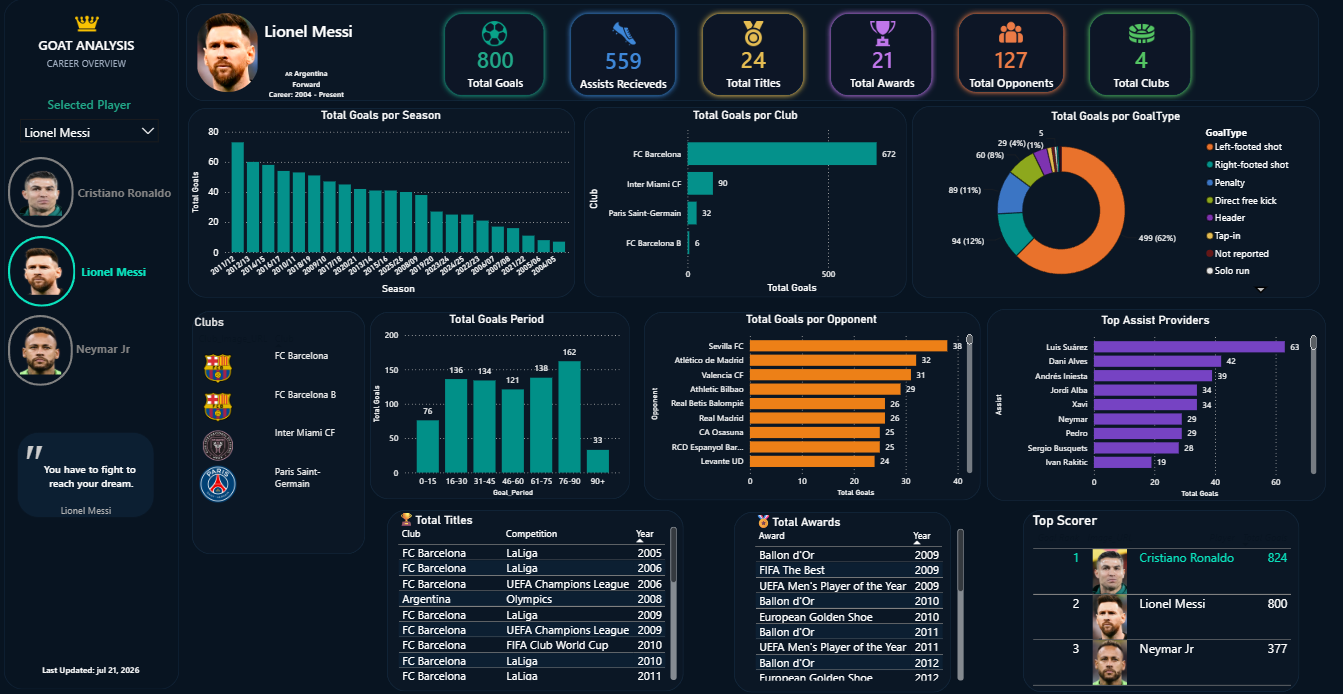

The page's visual inventory and layout, read from the dashboard file:
{"tool":"powerbi","page":{"name":"Goat Analysis","canvas":[1923,1000],"ordinal":1},"visuals":[{"type":"shape","box":[267.1,7.1,1618.6,138.6],"z":0},{"type":"actionButton","box":[104.2,253.4,150,46.2],"z":0,"group":"g26"},{"type":"actionButton","box":[12.5,338.8,96.3,101],"z":0,"group":"g27"},{"type":"actionButton","box":[12.5,451.2,92.6,101.2],"z":0,"group":"g28"},{"type":"shape","box":[7.5,0,250,986.2],"z":1000},{"type":"actionButton","box":[12.3,226.2,93.9,101],"z":1000,"group":"g26"},{"type":"actionButton","box":[110,363.8,107.5,50],"z":1000,"group":"g27"},{"type":"actionButton","box":[104.4,472.1,88.8,53.8],"z":1000,"group":"g28"},{"type":"textbox","title":"GOAT ANALYSIS","box":[0,52.5,250,53],"z":2000,"group":"g13"},{"type":"slicer","title":"Selected Player","fields":{"Values":["Players.Player"]},"box":[20,138.8,217.5,72.5],"z":2000},{"type":"card","fields":{"Values":["Medidas DAX.Last Updated"]},"box":[28.8,947.5,205,27.5],"z":3000},{"type":"image","box":[282,20,90,113],"z":4000},{"type":"card","fields":{"Values":["Medidas DAX.Player Quote"]},"box":[42.2,649,181,65],"z":4000,"group":"g14"},{"type":"group","id":"g1","title":"Grupo 3","box":[616.5,12.5,184.2,133.3],"z":5000},{"type":"group","id":"g2","title":"Grupo 4","box":[800.7,12.5,184,133.3],"z":6000},{"type":"group","id":"g3","title":"Grupo 1","box":[616.5,12.5,184,133],"z":7000,"group":"g1"},{"type":"group","id":"g4","title":"Grupo 5","box":[985.7,12.5,184.2,133.3],"z":7000},{"type":"shape","box":[628.3,12.5,157.7,133],"z":8000,"group":"g3"},{"type":"group","id":"g5","title":"Grupo 2","box":[800.7,12.5,184.7,133],"z":8000,"group":"g2"},{"type":"group","id":"g6","title":"Grupo 6","box":[1169.8,12.5,184.2,133.3],"z":8000},{"type":"group","id":"g7","title":"Grupo 2","box":[985.7,12.5,184,133],"z":9000,"group":"g4"},{"type":"group","id":"g8","title":"Grupo 7","box":[1354,13.2,184.2,133.3],"z":9000},{"type":"cardVisual","title":"Total de Gols","fields":{"Data":["Medidas DAX.Total Goals"]},"box":[616.5,49.5,184,94],"z":9000,"group":"g3"},{"type":"shape","box":[809.8,12.5,165.5,133],"z":10000,"group":"g5"},{"type":"shape","box":[997,12.5,160.1,133],"z":10000,"group":"g7"},{"type":"group","id":"g9","title":"Grupo 2","box":[1169.8,12.5,184,133],"z":10000,"group":"g6"},{"type":"shape","box":[1180.5,12.5,160.3,133],"z":10000,"group":"g9"},{"type":"shape","box":[1363,13.2,166,128.2],"z":10000,"group":"g11"},{"type":"group","id":"g10","title":"Grupo 8","box":[1539.8,13.2,184.2,133.3],"z":10000},{"type":"shape","box":[1550.5,13.2,160.3,133],"z":10000,"group":"g12"},{"type":"group","id":"g11","title":"Grupo 2","box":[1354,13.2,184,133],"z":11000,"group":"g8"},{"type":"textbox","box":[372.5,23.8,138.8,63.8],"z":11000},{"type":"cardVisual","title":"Total de Gols","fields":{"Data":["Medidas DAX.Total Opponents"]},"box":[1354,47.9,184,98.3],"z":11000,"group":"g11"},{"type":"cardVisual","title":"Total de Gols","fields":{"Data":["Medidas DAX.Total Titles"]},"box":[985.7,49.5,184,94],"z":11000,"group":"g7"},{"type":"cardVisual","title":"Total de Gols","fields":{"Data":["Medidas DAX.Total Awards"]},"box":[1169.8,49.5,184,94],"z":11000,"group":"g9"},{"type":"cardVisual","title":"Total de Gols","fields":{"Data":["Medidas DAX.Total Clubs"]},"box":[1539.8,50.2,184,94],"z":11000,"group":"g12"},{"type":"cardVisual","title":"Total de Gols","fields":{"Data":["Medidas DAX.Total Assists"]},"box":[800.7,51.5,184.7,94],"z":11000,"group":"g5"},{"type":"shape","box":[26.2,619,196.2,122.5],"z":11500,"group":"g25"},{"type":"group","id":"g12","title":"Grupo 2","box":[1539.8,13.2,184,133],"z":12000,"group":"g10"},{"type":"group","id":"g13","title":"Grupo 10","box":[0,17.5,250,87.5],"z":12000},{"type":"group","id":"g14","title":"Grupo 9","box":[28,619.7,195.2,122.9],"z":12000,"group":"g25"},{"type":"image","box":[105,17.5,40,36],"z":13000,"group":"g13"},{"type":"image","box":[682,30.5,50.4,36],"z":13000,"group":"g1"},{"type":"group","id":"g15","title":"Grupo 11","box":[269,155,554,271],"z":13000},{"type":"image","box":[873.4,30.5,40.4,36],"z":13001,"group":"g2"},{"type":"textbox","title":"\"","box":[28,619.7,194.3,122.9],"z":13001,"group":"g14"},{"type":"image","box":[1052.5,30.5,50.4,36],"z":13002,"group":"g4"},{"type":"image","box":[1238.7,30.5,47.5,36],"z":13003,"group":"g6"},{"type":"image","box":[1426,30.5,40,34.7],"z":13004,"group":"g8"},{"type":"image","box":[1608.7,31.2,47.5,36],"z":13005,"group":"g10"},{"type":"shape","box":[835,154,461,272],"z":13500,"group":"g16"},{"type":"shape","box":[270,155,553,271],"z":13500,"group":"g15"},{"type":"group","id":"g16","title":"Grupo 12","box":[835,154,461,272],"z":14000},{"type":"columnChart","fields":{"Category":["Goals_Raw.Season"],"Y":["Medidas DAX.Total Goals"]},"box":[269,155,554,271],"z":14000,"group":"g15"},{"type":"barChart","fields":{"Category":["Goals_Raw.Club"],"Y":["Medidas DAX.Total Goals"]},"box":[835,155.4,461,269.1],"z":14000,"group":"g16"},{"type":"group","id":"g17","title":"Grupo 13","box":[1304.3,152.9,582.9,274.3],"z":15000},{"type":"shape","box":[1304.3,152.9,582.9,274.3],"z":15500,"group":"g17"},{"type":"donutChart","fields":{"Category":["Goals_Type.GoalType"],"Y":["Medidas DAX.Total Goals"]},"box":[1306.2,156.6,579.4,270.6],"z":16000,"group":"g17"},{"type":"group","id":"g18","title":"Grupo 14","box":[528.8,447.5,372.5,268.8],"z":16000},{"type":"shape","box":[274.4,446,247.3,347.3],"z":16500,"group":"g23"},{"type":"group","id":"g19","title":"Grupo 15","box":[921.2,447.5,481.2,268.8],"z":17000},{"type":"tableEx","title":"Clubs","fields":{"Values":["Clubs.Club_Image_URL","Goals_Raw.Club"]},"box":[273.6,451.8,248.2,342.7],"z":17000,"group":"g23"},{"type":"shape","box":[529.7,447.5,371.3,267.3],"z":17500,"group":"g18"},{"type":"shape","box":[921.2,447.5,480.9,269.1],"z":17503,"group":"g19"},{"type":"shape","box":[1412.2,451.4,483.8,266.2],"z":17503,"group":"g24"},{"type":"columnChart","title":"Total Goals Period","fields":{"Category":["Goals_Raw.Goal_Period"],"Y":["Medidas DAX.Total Goals"]},"box":[528.8,447.7,364.8,268.4],"z":18000,"group":"g18"},{"type":"group","id":"g20","title":"Grupo 16","box":[554.7,730,423.6,259.1],"z":18000},{"type":"clusteredBarChart","fields":{"Category":["Goals_Raw.Opponent"],"Y":["Medidas DAX.Total Goals"]},"box":[926.1,447.7,470,268.2],"z":18003,"group":"g19"},{"type":"clusteredBarChart","title":"Top Assist Providers","fields":{"Category":["Goals_Raw.Assist"],"Y":["Medidas DAX.Total Goals"]},"box":[1417.4,448.6,470,268.1],"z":18003,"group":"g24"},{"type":"group","id":"g21","title":"Grupo 17","box":[1050.4,732.9,333.4,258.3],"z":19000},{"type":"shape","box":[554.7,730,423.6,259.1],"z":19500,"group":"g20"},{"type":"tableEx","title":"🏆Total Titles","fields":{"Values":["Titles.Club","Titles.Competition","Titles.Year"]},"box":[564.8,730,409.1,247.6],"z":20000,"group":"g20"},{"type":"group","id":"g22","title":"Grupo 17","box":[1463.5,730,402.5,260],"z":20000},{"type":"shape","box":[1463.5,730,394.6,260],"z":20500,"group":"g22"},{"type":"shape","box":[1050.4,733.4,310.2,257.8],"z":20500,"group":"g21"},{"type":"group","id":"g23","title":"Grupo 18","box":[273.6,446,248.2,348.5],"z":21000},{"type":"group","id":"g24","title":"Grupo 15","box":[1412.2,448.6,483.8,268.9],"z":22000},{"type":"tableEx","title":"   Top Scorer","fields":{"Values":["Medidas DAX.Goal Rank","Players.Image_URL","Players.Player","Medidas DAX.Total Goals"]},"box":[1471.5,732.5,394.5,256.4],"z":22000,"group":"g22"},{"type":"tableEx","title":"🏅Total Awards","fields":{"Values":["Awards.Award","Awards.Year"]},"box":[1075.2,732.9,308.7,246.5],"z":22000,"group":"g21"},{"type":"group","id":"g25","title":"Grupo 19","box":[26.2,619,197.5,122.5],"z":23000},{"type":"group","id":"g26","title":"Grupo 1","box":[12.3,226.2,241.9,101],"z":24000},{"type":"group","id":"g27","title":"Grupo 2","box":[12.5,338.8,205,101],"z":25000},{"type":"group","id":"g28","title":"Grupo 3","box":[12.5,451.2,181.2,101.2],"z":26000}]}

Visuals, with their boxes in screenshot pixels (x1, y1, x2, y2), scaled from the page's 1923x1000 canvas onto the 1343x694 screenshot:
shape: 187:5:1317:101
actionButton: 73:176:178:208
actionButton: 9:235:76:305
actionButton: 9:313:73:383
shape: 5:0:180:684
actionButton: 9:157:74:227
actionButton: 77:252:152:287
actionButton: 73:328:135:365
"GOAT ANALYSIS" textbox: 0:36:175:73
"Selected Player" slicer: 14:96:166:147
card - Medidas DAX.Last Updated: 20:658:163:677
image: 197:14:260:92
card - Medidas DAX.Player Quote: 29:450:156:496
"Grupo 3" group: 431:9:559:101
"Grupo 4" group: 559:9:688:101
"Grupo 1" group: 431:9:559:101
"Grupo 5" group: 688:9:817:101
shape: 439:9:549:101
"Grupo 2" group: 559:9:688:101
"Grupo 6" group: 817:9:946:101
"Grupo 2" group: 688:9:817:101
"Grupo 7" group: 946:9:1074:102
"Total de Gols" cardVisual: 431:34:559:100
shape: 566:9:681:101
shape: 696:9:808:101
"Grupo 2" group: 817:9:945:101
shape: 824:9:936:101
shape: 952:9:1068:98
"Grupo 8" group: 1075:9:1204:102
shape: 1083:9:1195:101
"Grupo 2" group: 946:9:1074:101
textbox: 260:17:357:61
"Total de Gols" cardVisual: 946:33:1074:101
"Total de Gols" cardVisual: 688:34:817:100
"Total de Gols" cardVisual: 817:34:945:100
"Total de Gols" cardVisual: 1075:35:1204:100
"Total de Gols" cardVisual: 559:36:688:101
shape: 18:430:155:515
"Grupo 2" group: 1075:9:1204:101
"Grupo 10" group: 0:12:175:73
"Grupo 9" group: 20:430:156:515
image: 73:12:101:37
image: 476:21:511:46
"Grupo 11" group: 188:108:575:296
image: 610:21:638:46
""" textbox: 20:430:155:515
image: 735:21:770:46
image: 865:21:898:46
image: 996:21:1024:45
image: 1123:22:1157:47
shape: 583:107:905:296
shape: 189:108:575:296
"Grupo 12" group: 583:107:905:296
columnChart - Goals_Raw.Season x Medidas DAX.Total Goals: 188:108:575:296
barChart - Goals_Raw.Club x Medidas DAX.Total Goals: 583:108:905:295
"Grupo 13" group: 911:106:1318:296
shape: 911:106:1318:296
donutChart - Goals_Type.GoalType x Medidas DAX.Total Goals: 912:109:1317:296
"Grupo 14" group: 369:311:629:497
shape: 192:310:364:551
"Grupo 15" group: 643:311:979:497
"Clubs" tableEx: 191:314:364:551
shape: 370:311:629:496
shape: 643:311:979:497
shape: 986:313:1324:498
"Total Goals Period" columnChart: 369:311:624:497
"Grupo 16" group: 387:507:683:686
clusteredBarChart - Goals_Raw.Opponent x Medidas DAX.Total Goals: 647:311:975:497
"Top Assist Providers" clusteredBarChart: 990:311:1318:497
"Grupo 17" group: 734:509:966:688
shape: 387:507:683:686
"🏆Total Titles" tableEx: 394:507:680:678
"Grupo 17" group: 1022:507:1303:687
shape: 1022:507:1298:687
shape: 734:509:950:688
"Grupo 18" group: 191:310:364:551
"Grupo 15" group: 986:311:1324:498
"   Top Scorer" tableEx: 1028:508:1303:686
"🏅Total Awards" tableEx: 751:509:966:680
"Grupo 19" group: 18:430:156:515
"Grupo 1" group: 9:157:178:227
"Grupo 2" group: 9:235:152:305
"Grupo 3" group: 9:313:135:383
